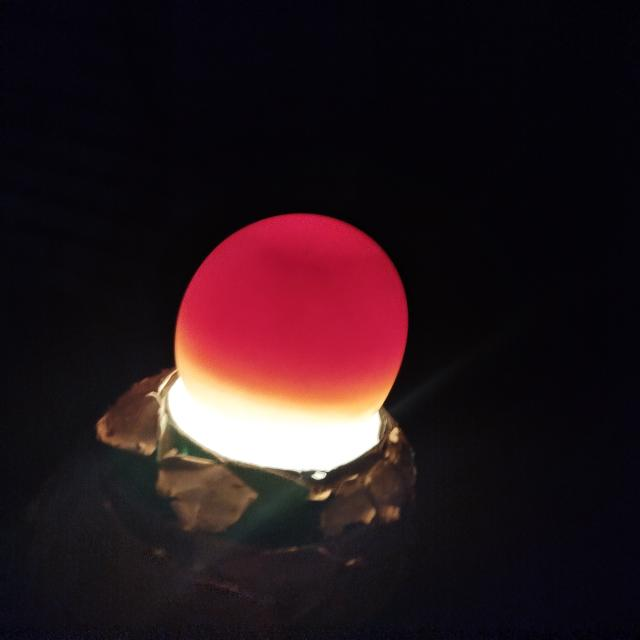Gema Quebrada: (182, 214, 409, 382)
